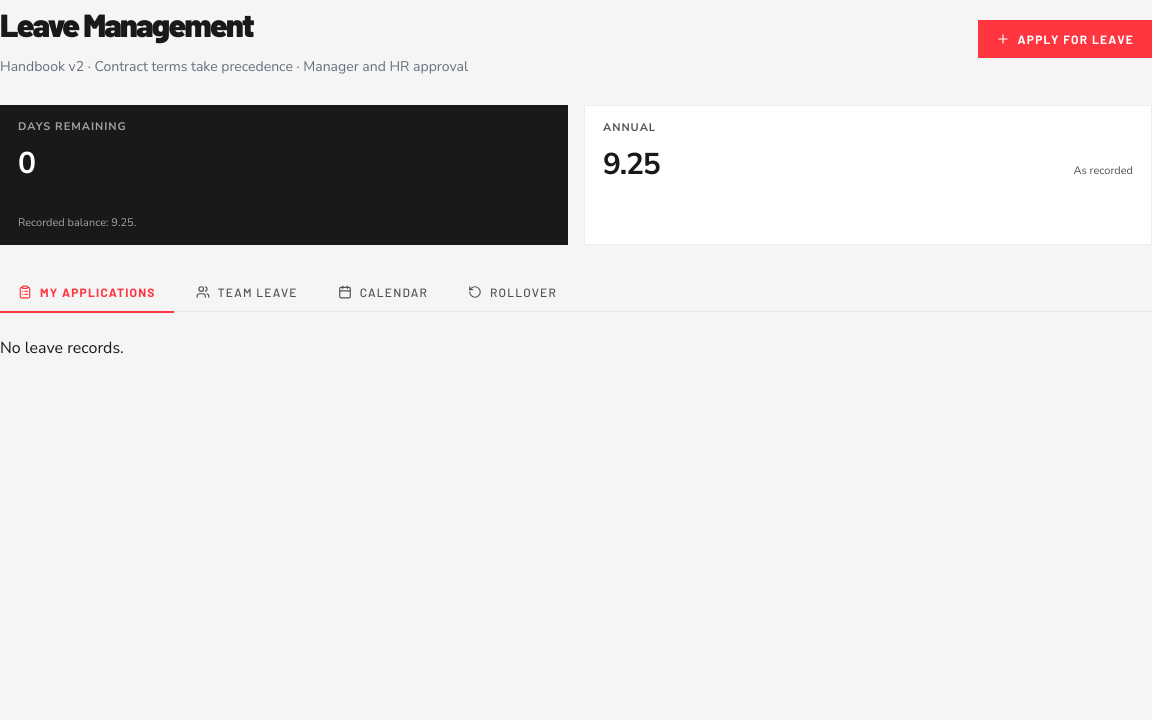
Scenario: manager approval is sent to HR for final approval
Later steps or results of the test are not shown.
Click the button with test id "leave-tab-team" at {"x": 247, "y": 293}, box left=178, top=273, right=316, bottom=313
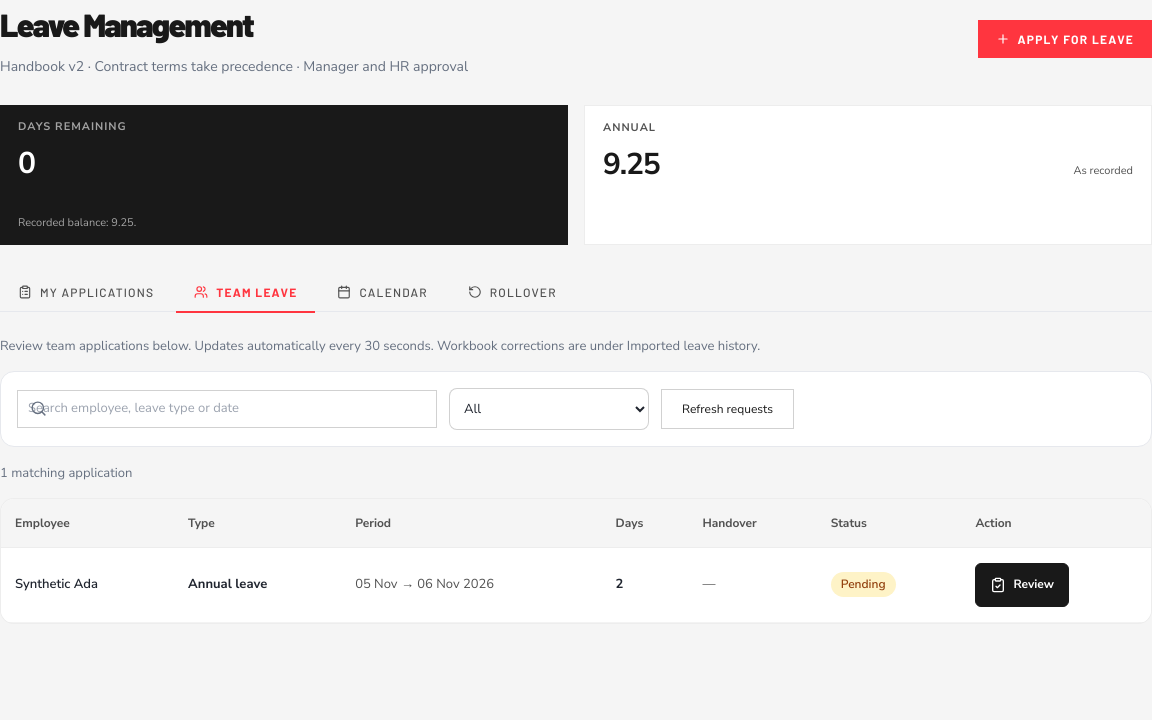
Check: the button "Review" is shown
Click the button "Review" at {"x": 1022, "y": 585}, box left=976, top=563, right=1069, bottom=607
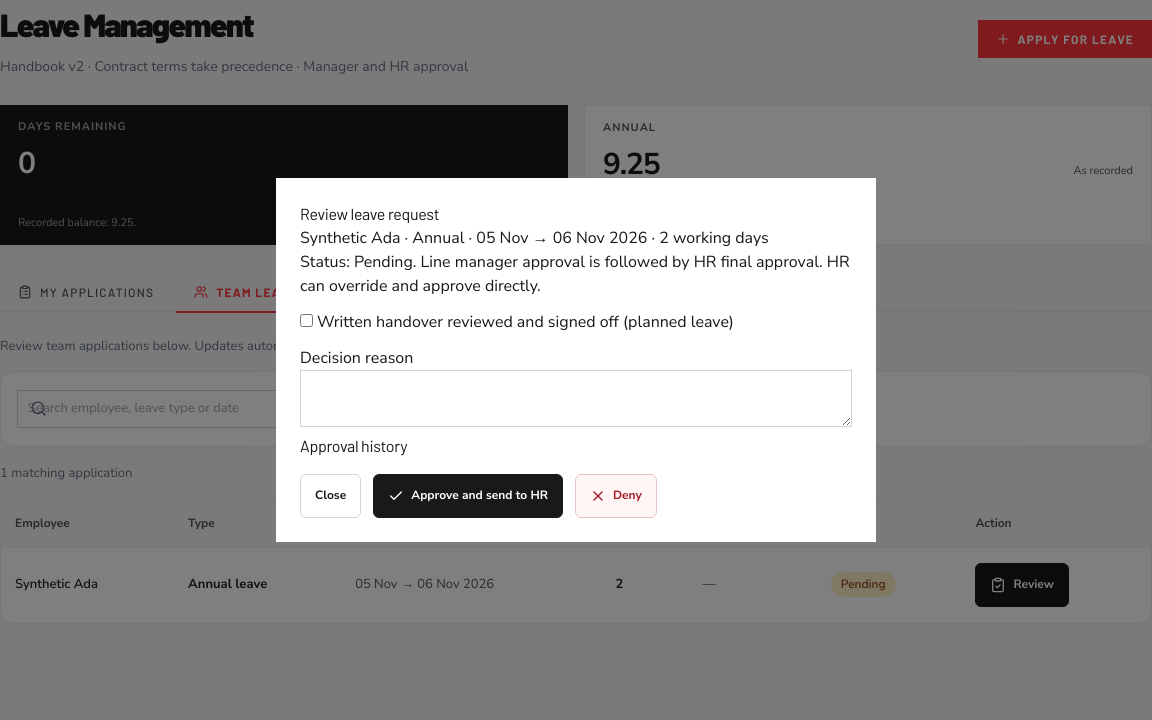
Check: the text "Line manager approval is followed by HR final approval" is shown, box left=300, top=251, right=850, bottom=297
Check: the button "Approve and send to HR" is shown, box left=373, top=474, right=563, bottom=518
